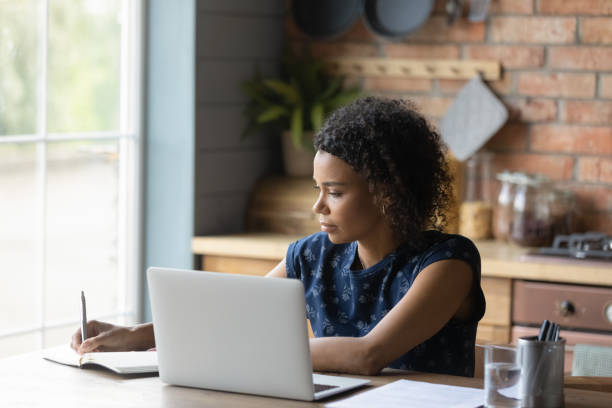without mask: (304, 123, 409, 257)
